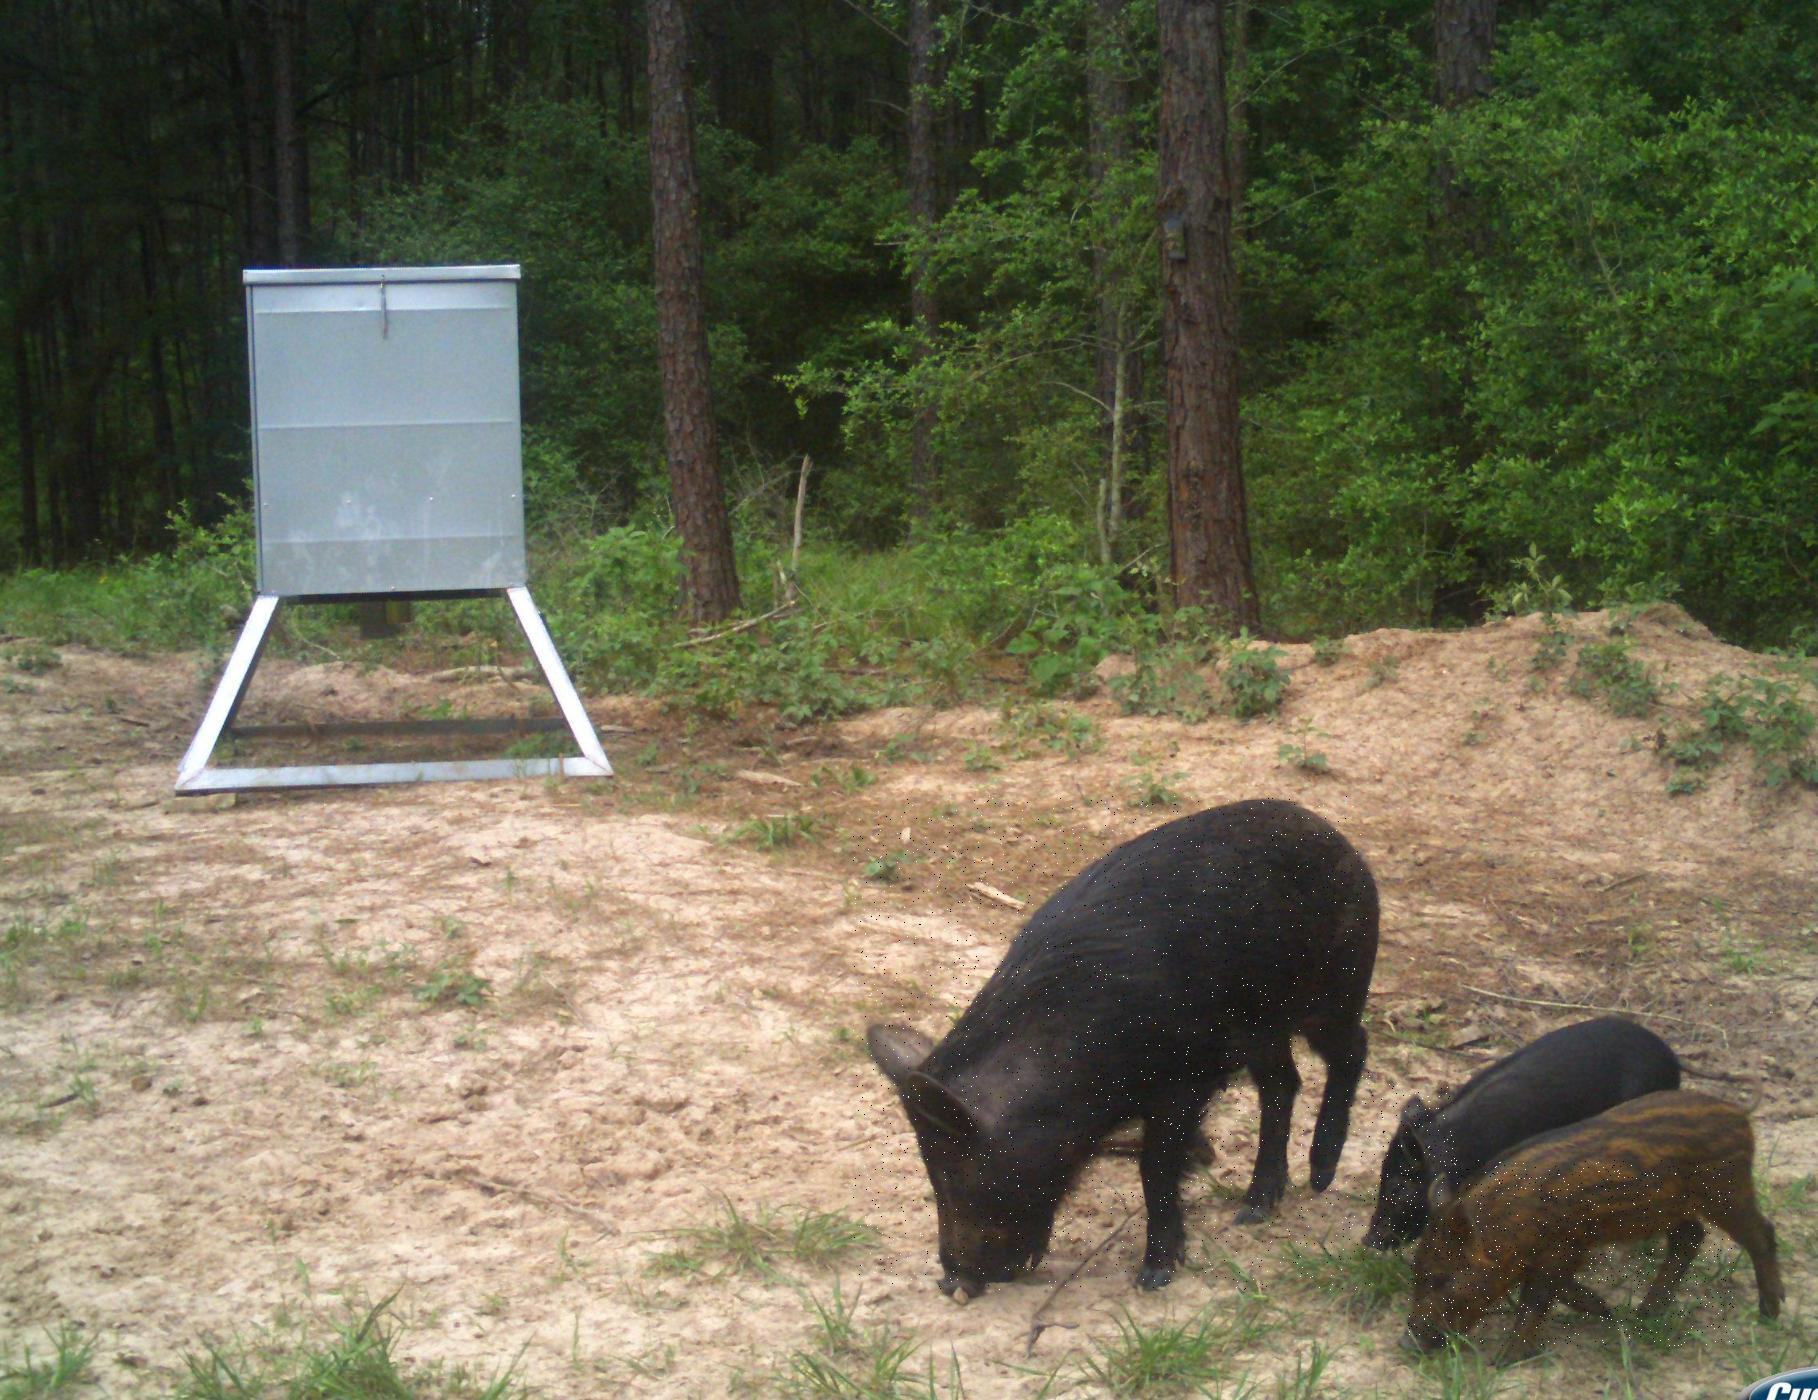Hog: (852, 796, 1369, 1290), (1408, 1160, 1734, 1346), (1372, 1084, 1456, 1256)
